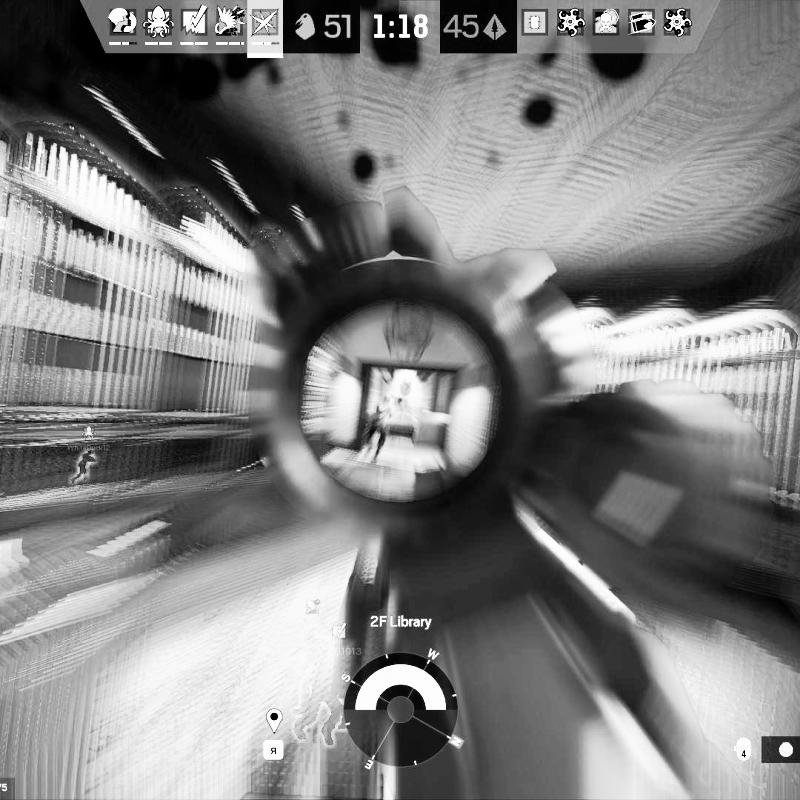Character: (361, 396, 392, 464)
Friend_label: (280, 594, 342, 632), (315, 623, 364, 657), (66, 426, 112, 452)
Head: (383, 396, 391, 406)
